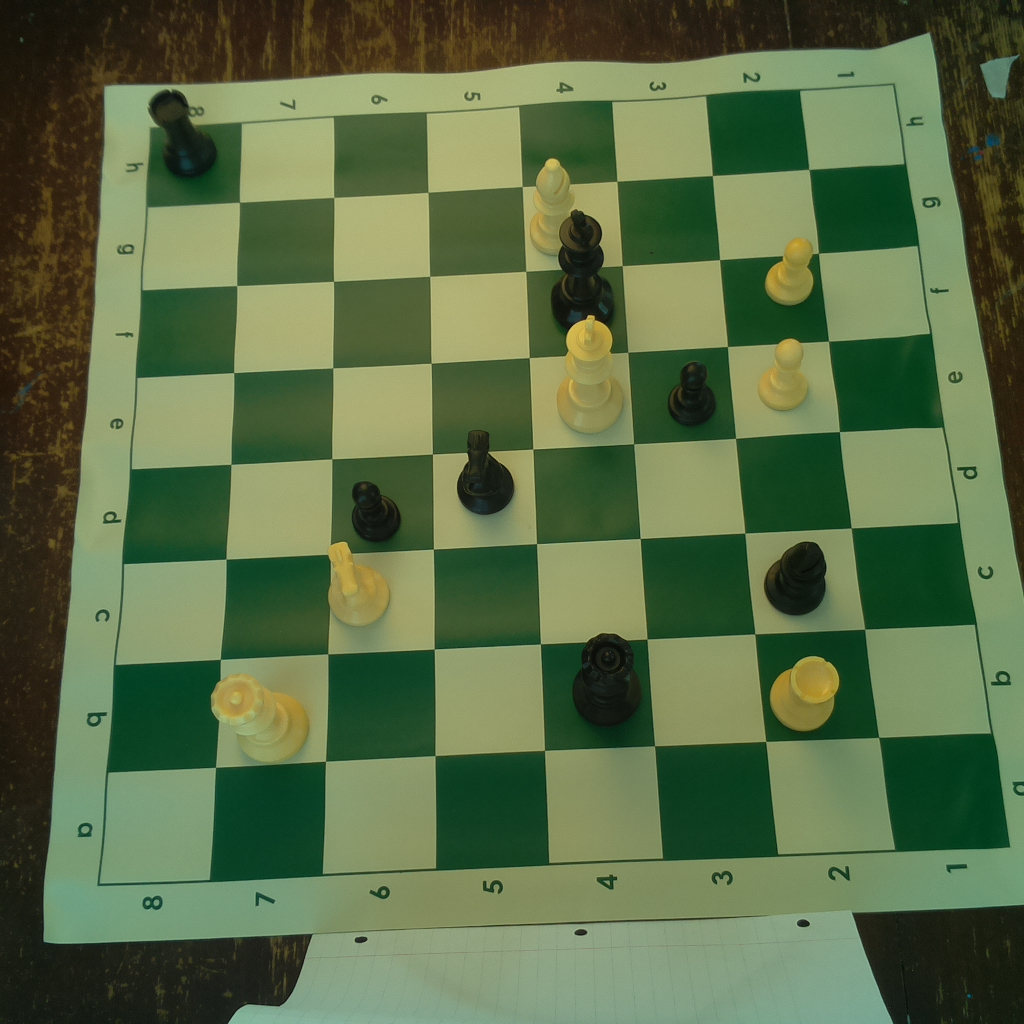black_bishop: (762, 539, 829, 618)
black_king: (549, 202, 616, 338)
black_knight: (453, 427, 516, 518)
black_pawn: (344, 474, 408, 544), (663, 356, 723, 430)
black_queen: (570, 628, 644, 730)
black_rook: (144, 84, 220, 179)
file_a: (99, 735, 1010, 886)
file_b: (107, 625, 992, 773)
file_c: (116, 525, 977, 666)
file_d: (121, 426, 962, 564)
file_e: (129, 336, 945, 471)
file_f: (138, 243, 933, 378)
file_g: (137, 165, 919, 291)
file_h: (146, 86, 905, 209)
outline: (96, 83, 1012, 884)
rank_1: (799, 84, 1010, 853)
rank_2: (707, 90, 894, 853)
rank_3: (612, 95, 779, 858)
rank_4: (519, 99, 663, 864)
rank_5: (427, 109, 553, 870)
rank_6: (323, 113, 442, 874)
rank_7: (212, 112, 332, 879)
rank_8: (98, 122, 241, 890)
white_bishop: (527, 156, 590, 258)
white_king: (555, 314, 629, 431)
white_knight: (323, 543, 390, 623)
white_pawn: (754, 334, 814, 413), (763, 231, 819, 306)
white_queen: (206, 669, 314, 764)
white_rook: (764, 653, 842, 734)
